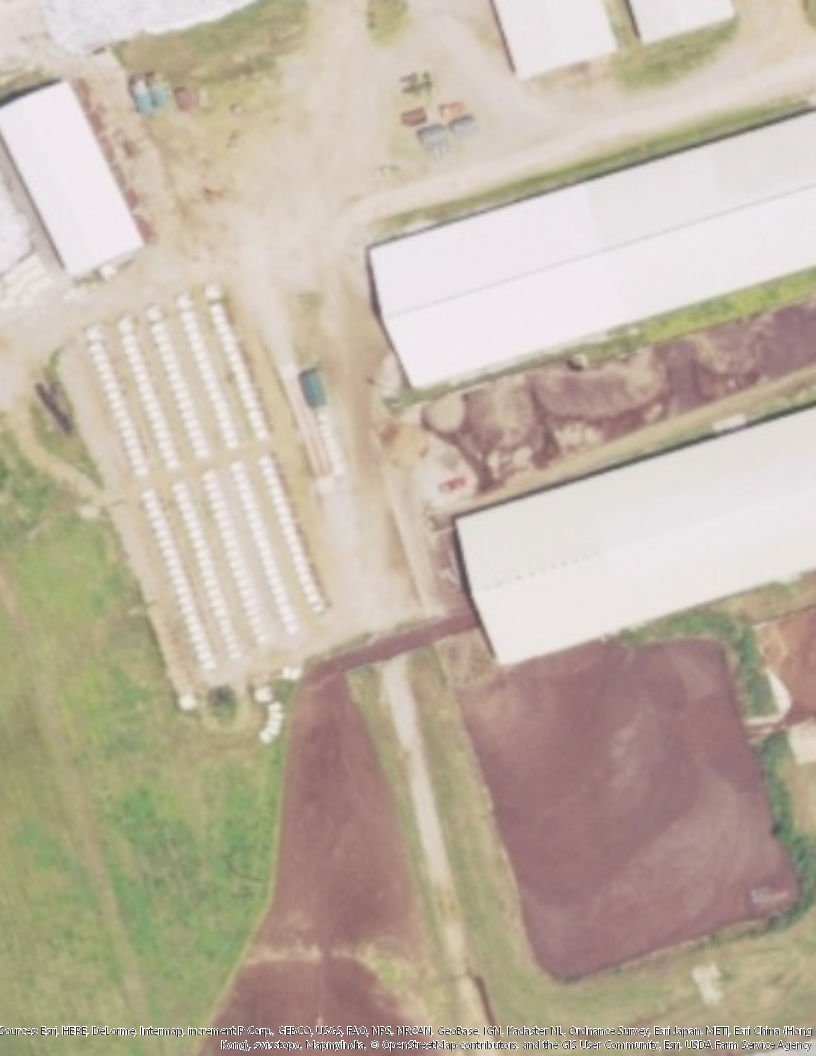cafo: (356, 98, 816, 403), (438, 400, 816, 678), (2, 75, 162, 281), (474, 1, 626, 85), (614, 1, 752, 47)
